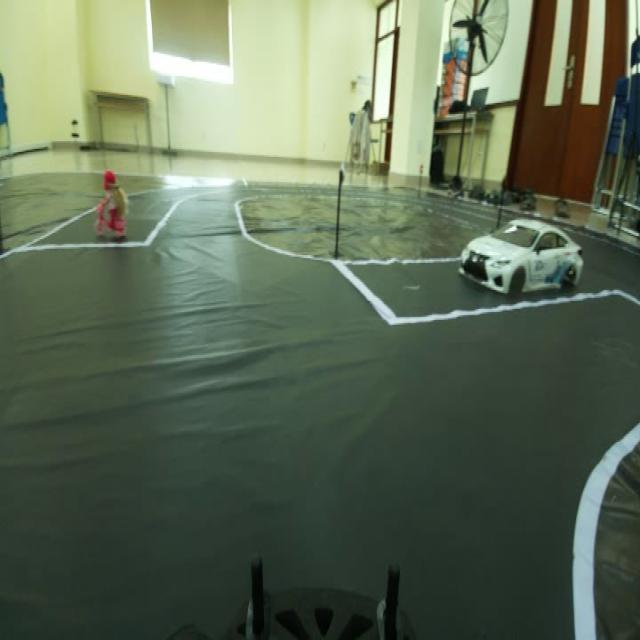car: (447, 216, 585, 300)
